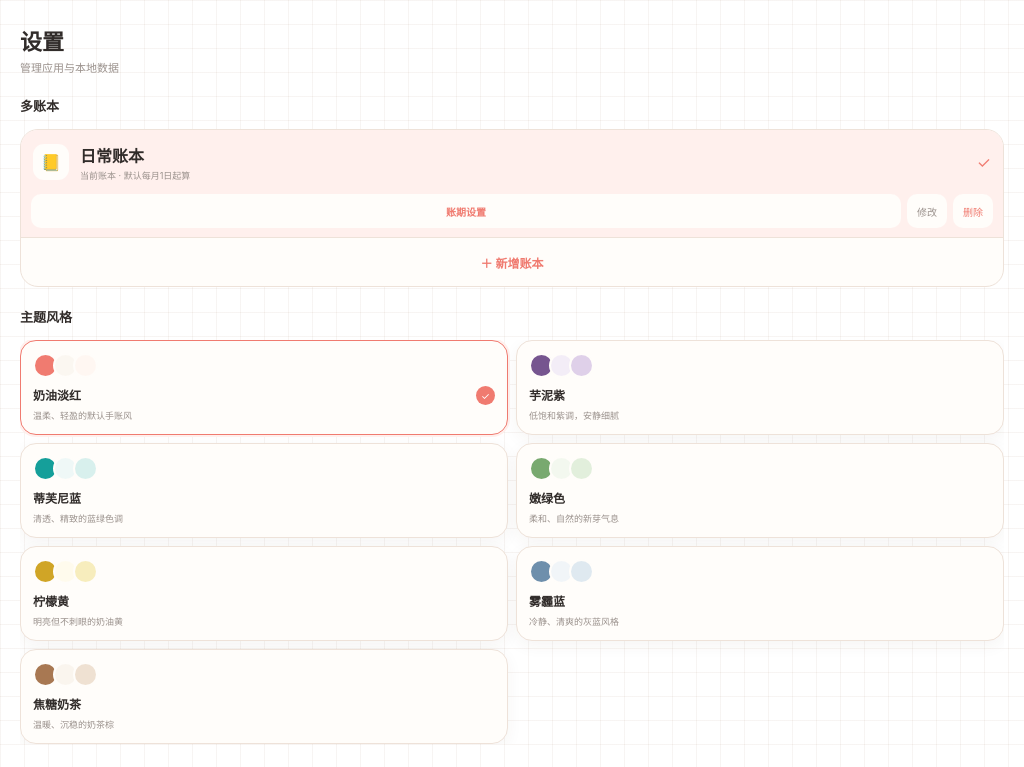
Test case: SettingsPage storage protection › selects a billing month with the in-app month picker
Click the button "账期设置" at [466, 211], box [31,194,901,228]
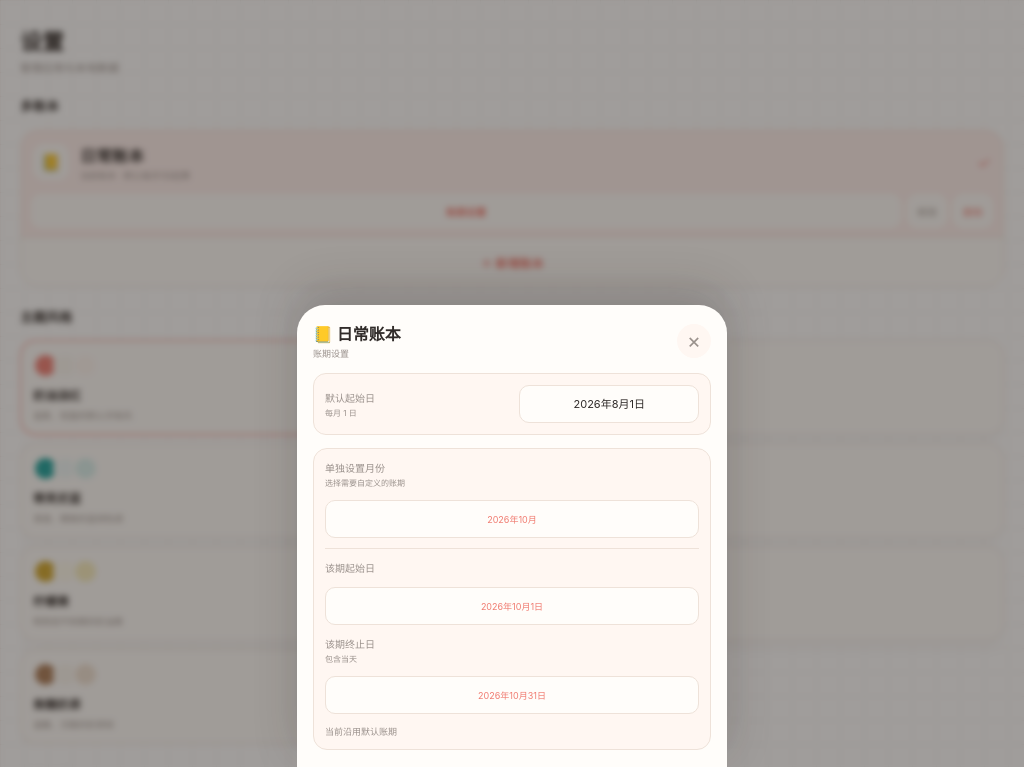
Click the button named "日常账本选择账期月份" at [512, 519], box [325,500,699,538]
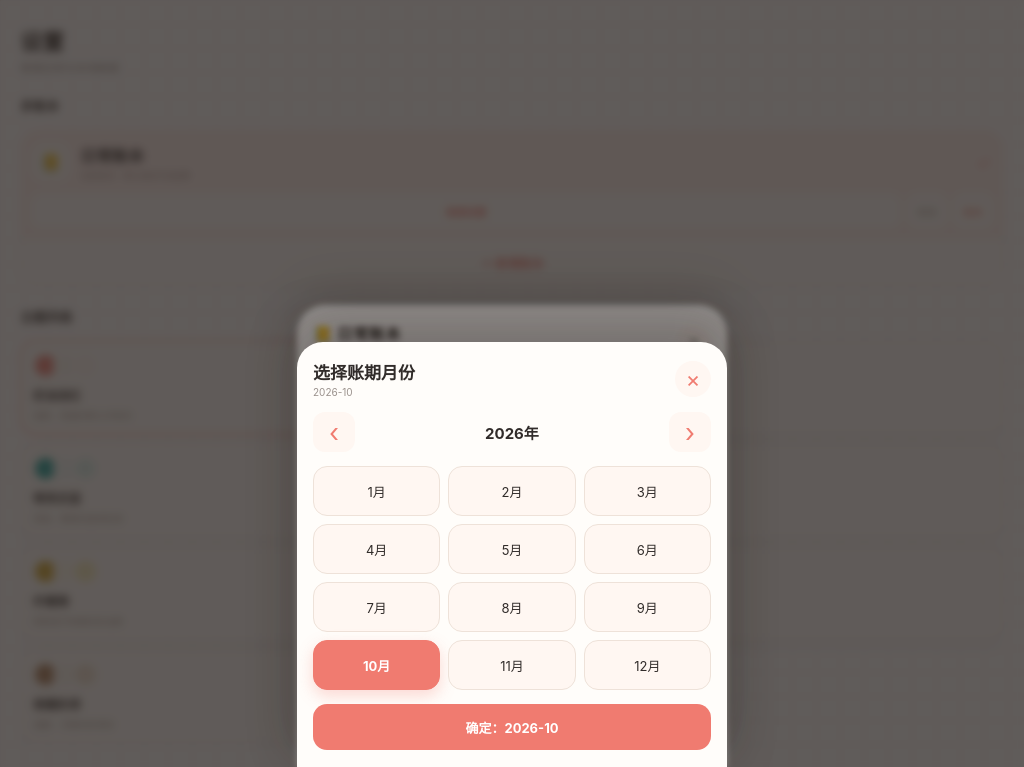
Click the button named "下一年" at [690, 432], box [669,412,711,452]
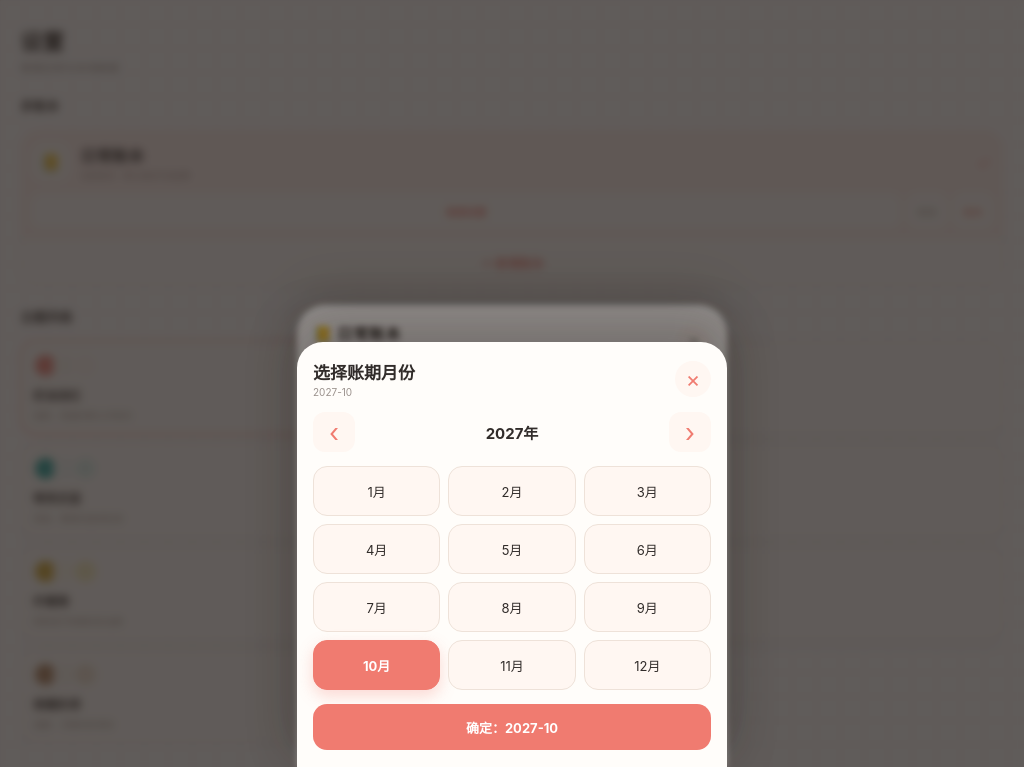
Click the button "3月" at [647, 491], box [584,466,711,516]
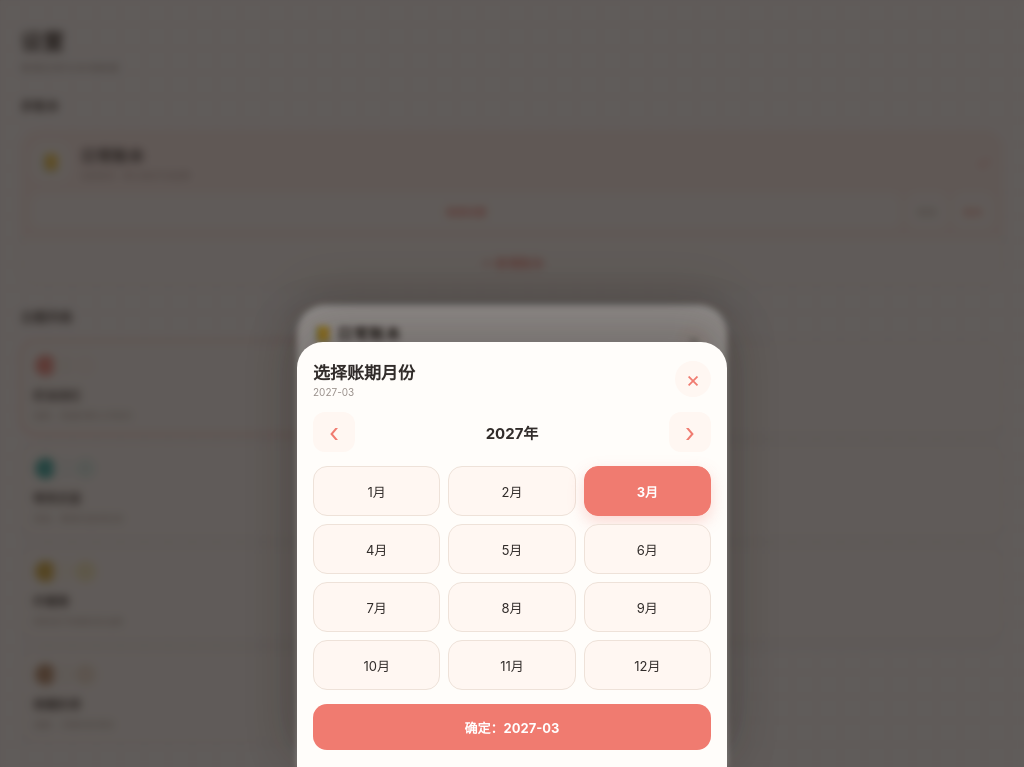
Click the button "确定：2027-03" at [512, 727], box [313,704,711,750]
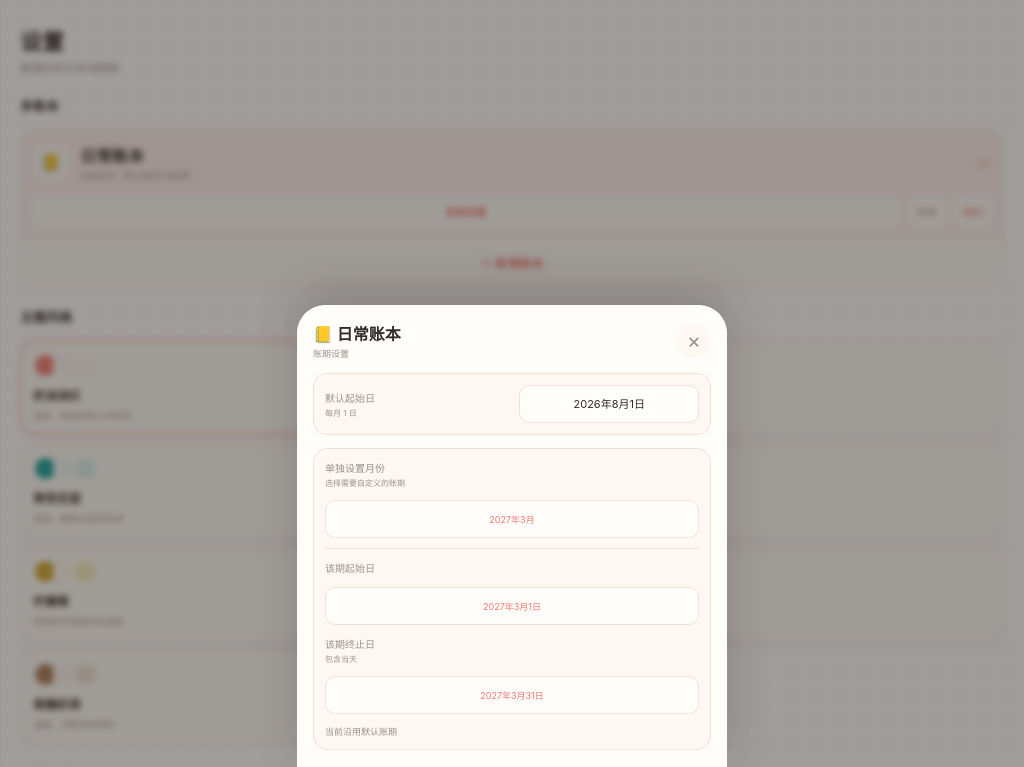
Now the text "2027年3月" is shown, box [325,500,699,538]
